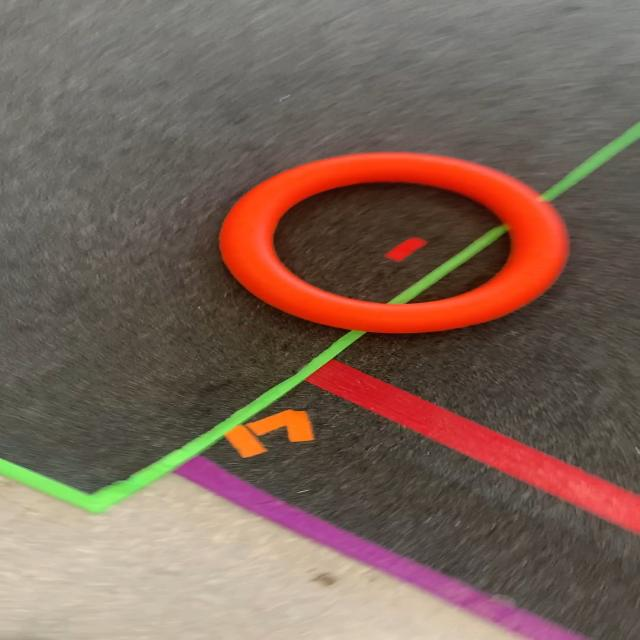notes: (214, 152, 572, 336)
